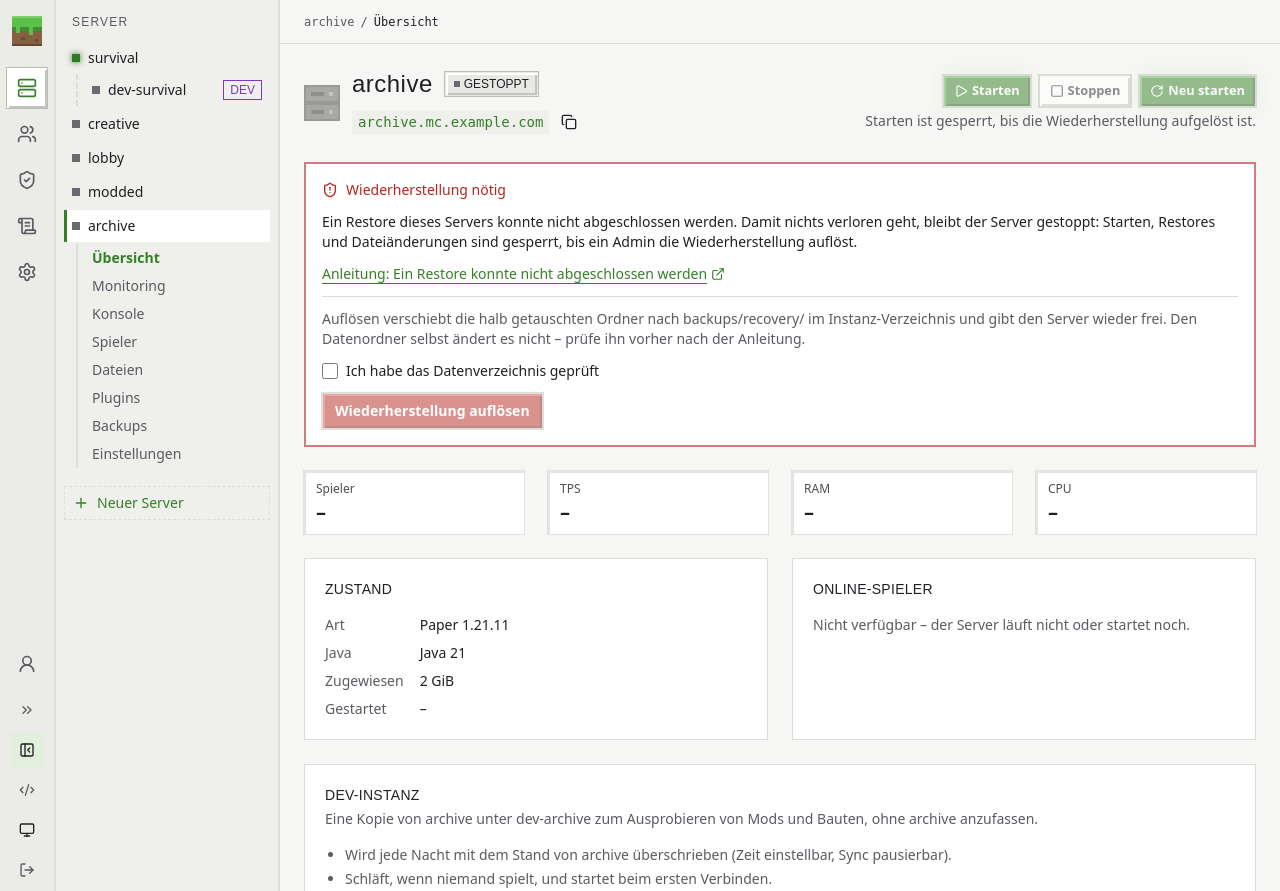
Test: ServerLayout › data state (data safety spec §2.3) › explains a stuck restore, links the runbook and lets an admin resolve it after confirming
Expected: the element "Wiederherstellung nötig" shows "Ein Restore dieses Servers konnte nicht abgeschlossen werden.", [322, 212, 1215, 251]
Expected: the button "Starten" is disabled, [943, 75, 1031, 107]
Click the checkbox labelled "Ich habe das Datenverzeichnis geprüft" at (330, 371), box [322, 363, 338, 379]
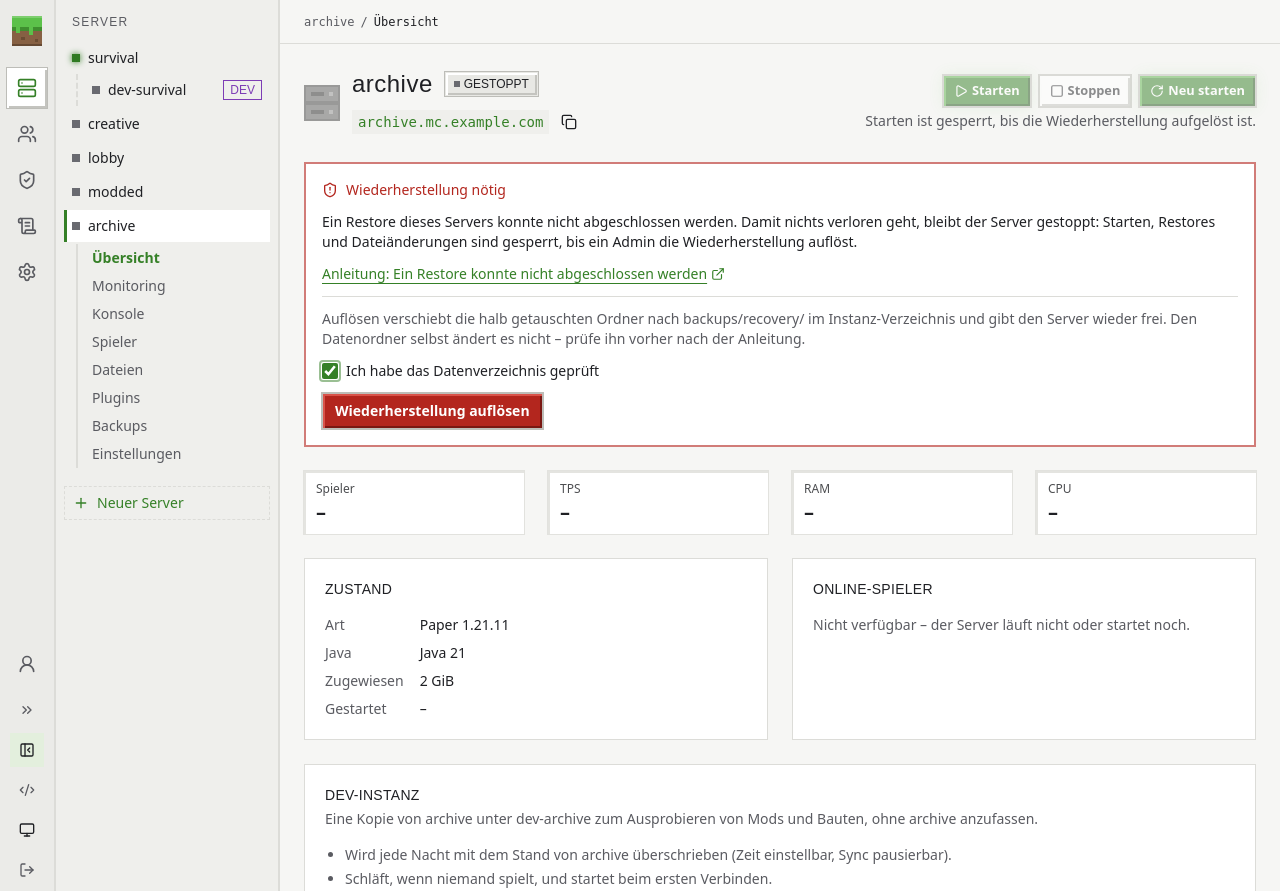
Click the button "Wiederherstellung auflösen" at (432, 411), box [322, 393, 543, 429]
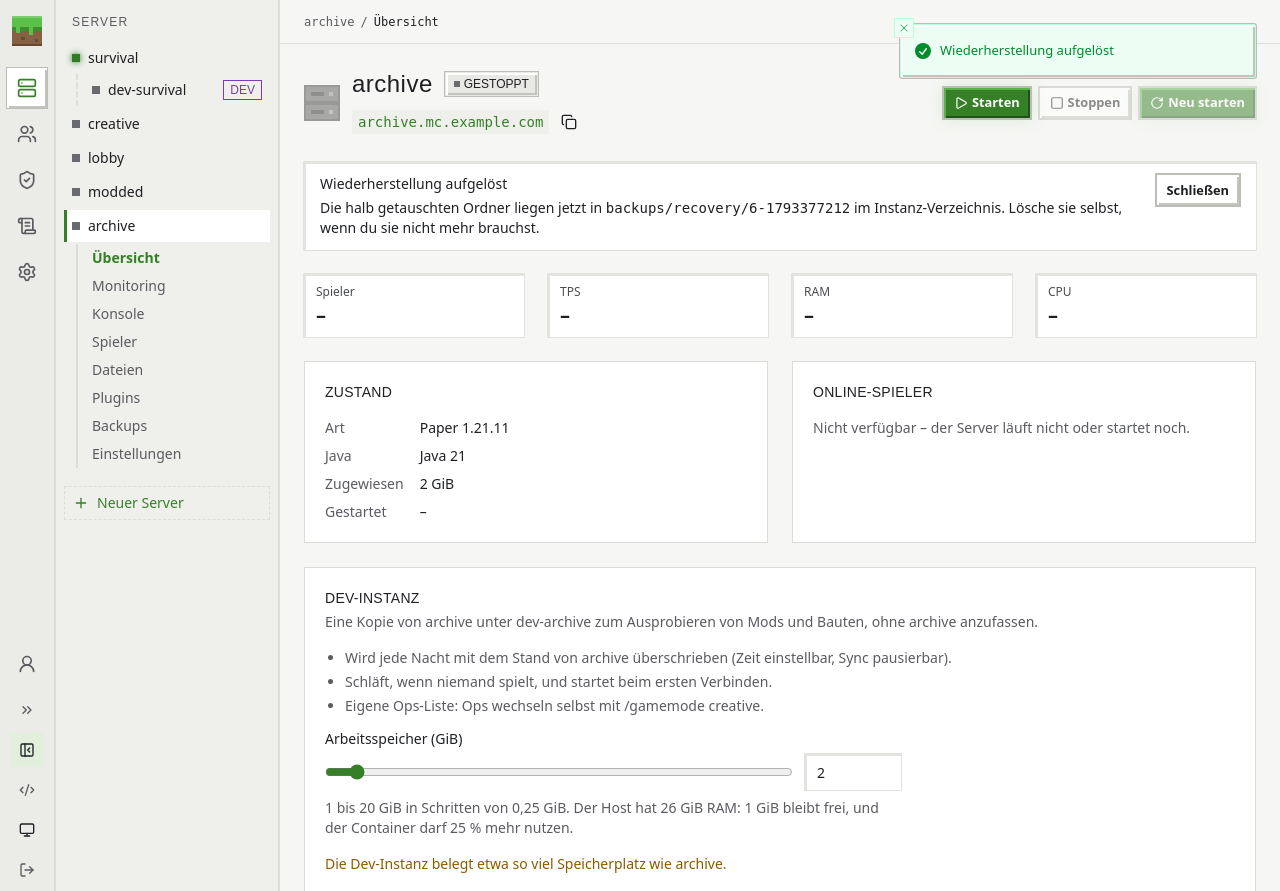
Result: the heading "Wiederherstellung nötig" is gone
Result: the button "Starten" is enabled at [943, 87, 1031, 119]
